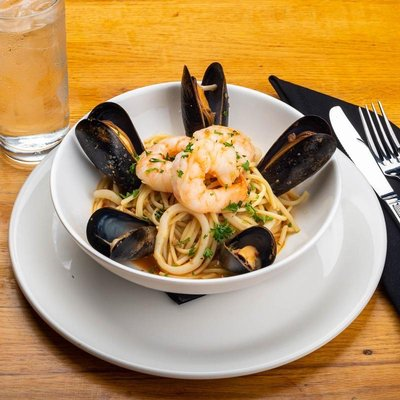burger: (269, 75, 399, 152)
salad: (256, 116, 337, 199), (200, 62, 230, 128), (180, 64, 205, 137)
sushi: (65, 72, 341, 296)
